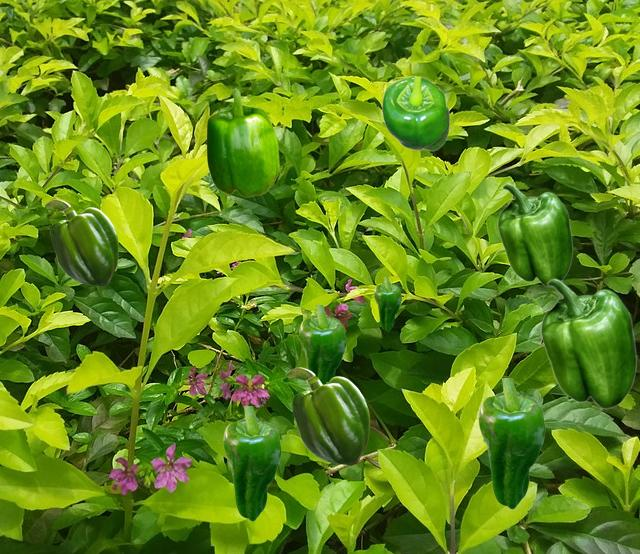bell_pepper: (540, 278, 636, 408), (478, 378, 544, 508), (285, 367, 368, 464), (206, 88, 278, 196), (497, 183, 572, 286), (223, 406, 280, 520), (44, 199, 117, 285), (381, 75, 449, 150), (299, 305, 345, 389), (374, 277, 400, 330)
